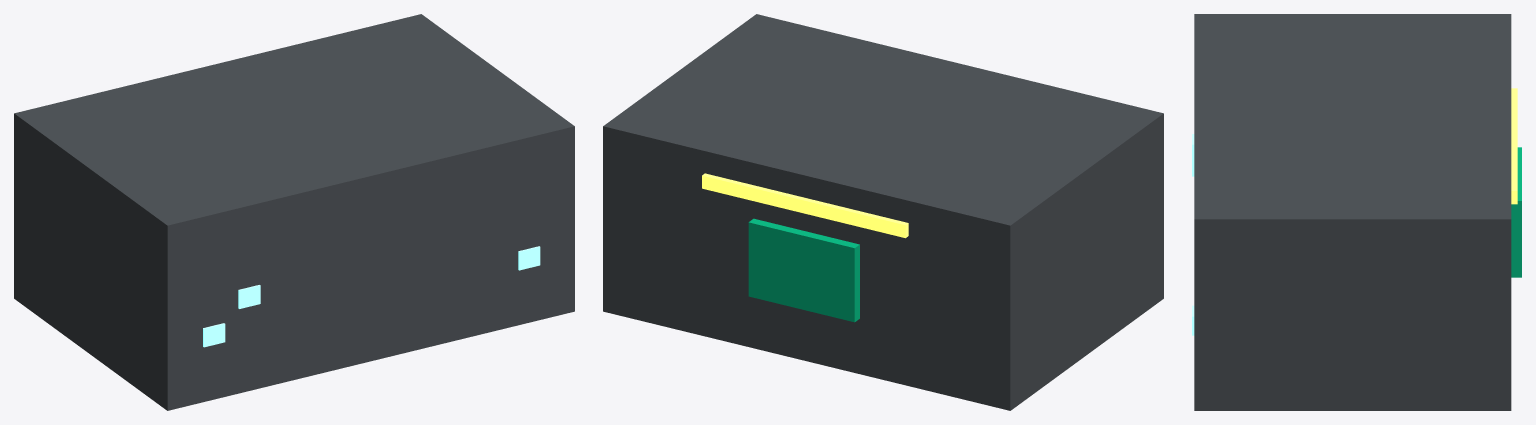
File: ai_research_center_lod1-CTS4edWz.glb
3 renders of one model, left to right at view 1: azimuth 30°, elevation 25°; view 2: azimuth 150°, elevation 25°; view 3: azimuth 270°, elevation 25°, orthographic. The views are drawn at different scales.
Parts seen in each view (by area): view 1: body, window; view 2: body, sign; view 3: body, sign.
Boxes of the visible parts, x1,y1,x2,y2 form: body: [14, 14, 574, 410]; window: [203, 246, 540, 347]; body: [603, 14, 1163, 410]; sign: [702, 173, 908, 238]; body: [1194, 14, 1521, 410]; sign: [1511, 88, 1517, 204].
Bounding box in the file's own units: 0.92 × 0.4 × 0.624.
